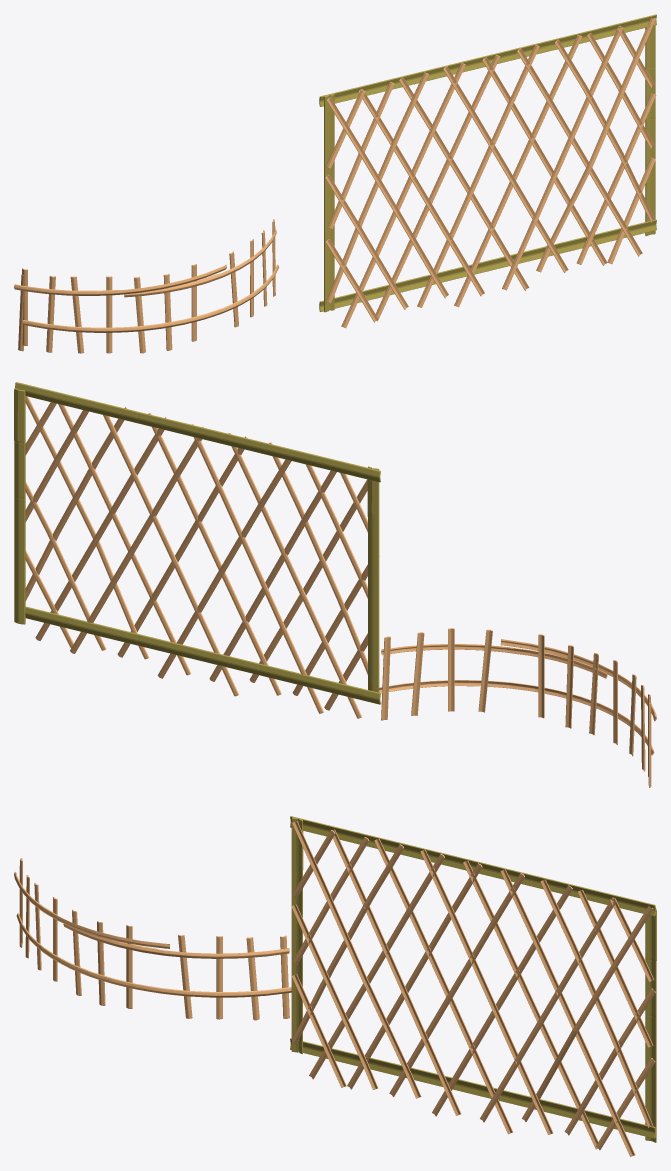
Rendered from bamboo_fence.glb.
3 renders of one model, top to bottom at view 1: azimuth 30°, elevation 25°; view 2: azimuth 150°, elevation 25°; view 3: azimuth 330°, elevation 25°, orthographic. The views are drawn at different scales.
Visible parts, largest first — view 1: Plane.002_14, Plane_13, Plane.001_16, Plane.003_15, Object_18, Object_14, Object_20, Object_16, Object_10, Plane.019_43, Object_12, Object_44 (+15 smaller); view 2: Plane.002_14, Plane_13, Plane.003_15, Plane.001_16, Object_16, Object_12, Object_46, Object_10, Object_42, Plane.019_43, Object_14, Object_18 (+18 smaller); view 3: Plane.002_14, Plane_13, Plane.001_16, Plane.003_15, Object_50, Object_44, Object_48, Object_40, Object_46, Plane.019_43, Object_42, Object_18 (+20 smaller).
Part boxes in pixels (<box>): Plane.002_14: <box>319,14,656,106</box>; Plane_13: <box>319,219,656,311</box>; Plane.001_16: <box>324,94,334,312</box>; Plane.003_15: <box>645,25,655,236</box>; Object_18: <box>502,26,623,290</box>; Object_14: <box>417,44,539,307</box>; Object_20: <box>536,17,655,272</box>; Object_16: <box>454,35,582,307</box>; Object_10: <box>341,63,465,327</box>; Plane.019_43: <box>22,264,279,332</box>; Object_12: <box>375,55,500,321</box>; Object_44: <box>443,66,568,272</box>; Plane.002_14: <box>15,382,380,482</box>; Plane_13: <box>25,606,380,704</box>; Plane.003_15: <box>14,388,25,624</box>; Plane.001_16: <box>367,466,379,692</box>; Object_16: <box>103,415,238,696</box>; Object_12: <box>192,424,323,713</box>; Object_46: <box>157,459,291,678</box>; Object_10: <box>228,433,361,718</box>; Object_42: <box>70,426,203,653</box>; Plane.019_43: <box>378,680,654,755</box>; Object_14: <box>148,413,281,695</box>; Object_18: <box>58,404,190,675</box>; Plane.002_14: <box>290,816,655,916</box>; Plane_13: <box>290,1038,655,1138</box>; Plane.001_16: <box>291,817,303,1053</box>; Plane.003_15: <box>645,908,656,1142</box>; Object_50: <box>292,821,421,1098</box>; Object_44: <box>420,849,553,1134</box>; Object_48: <box>333,829,461,1115</box>; Object_40: <box>500,869,635,1156</box>; Object_46: <box>374,839,512,1134</box>; Plane.019_43: <box>16,913,291,997</box>; Object_42: <box>463,860,598,1149</box>; Object_18: <box>480,897,616,1122</box>.
Bounding box in the file's own units: 8.5 × 3.2 × 0.996.
